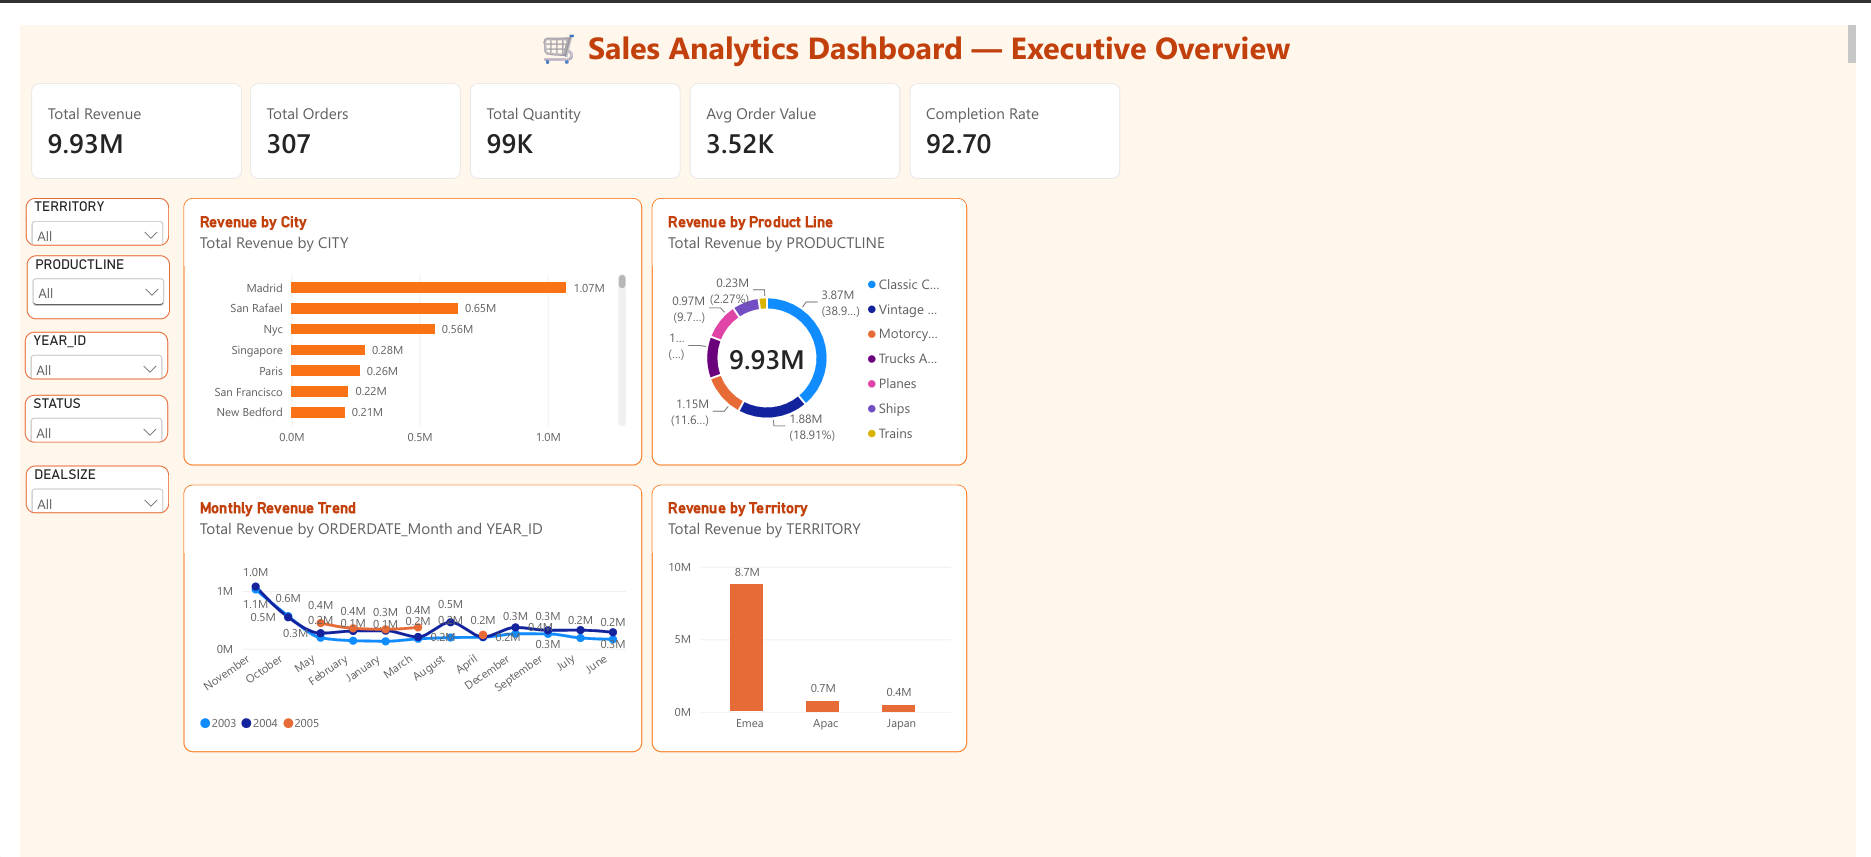

What the dashboard file says about the page in this screenshot:
{"tool":"powerbi","page":{"name":"Executive Overview","canvas":[1920,1080],"ordinal":0},"visuals":[{"type":"textbox","box":[10,0,280,280],"z":0},{"type":"textbox","box":[10.3,0,1910.1,49.4],"z":1},{"type":"cardVisual","fields":{"Data":["cleaned_data.Total Revenue"]},"box":[10.9,60,220,100],"z":2},{"type":"cardVisual","fields":{"Data":["cleaned_data.Total Orders"]},"box":[240,60,220,100],"z":3},{"type":"cardVisual","fields":{"Data":["cleaned_data.Total Quantity"]},"box":[470,60,220,100],"z":4},{"type":"cardVisual","fields":{"Data":["cleaned_data.Avg Order Value"]},"box":[700,60,220,100],"z":5},{"type":"cardVisual","fields":{"Data":["cleaned_data.Completion Rate"]},"box":[930,60,220,100],"z":6},{"type":"clusteredBarChart","title":"Revenue by City","fields":{"Category":["cleaned_data.CITY"],"Y":["cleaned_data.Total Revenue"]},"box":[170,180,480,280],"z":7},{"type":"donutChart","title":"Revenue by Product Line","fields":{"Category":["cleaned_data.PRODUCTLINE"],"Y":["cleaned_data.Total Revenue"]},"box":[660,180,330,280],"z":8},{"type":"lineChart","title":"Monthly Revenue Trend","fields":{"Category":["cleaned_data.ORDERDATE_Month"],"Series":["cleaned_data.YEAR_ID"],"Y":["cleaned_data.Total Revenue"]},"box":[170,480,480,280],"z":9},{"type":"clusteredColumnChart","title":"Revenue by Territory","fields":{"Category":["cleaned_data.TERRITORY"],"Y":["cleaned_data.Total Revenue"]},"box":[660,480,330,280],"z":10},{"type":"slicer","fields":{"Values":["cleaned_data.TERRITORY"]},"box":[5,180,150,50],"z":11},{"type":"slicer","fields":{"Values":["cleaned_data.PRODUCTLINE"]},"box":[5.7,240,150,67.1],"z":12},{"type":"slicer","fields":{"Values":["cleaned_data.YEAR_ID"]},"box":[4.3,320,150,50],"z":13},{"type":"slicer","fields":{"Values":["cleaned_data.STATUS"]},"box":[4.3,385.7,150,50],"z":14},{"type":"slicer","fields":{"Values":["cleaned_data.DEALSIZE"]},"box":[5,460,150,50],"z":15}]}

Visuals, with their boxes on the page's 1920x1080 design canvas (x1, y1, x2, y2). These are canvas units, not pixel positions in the 1871x857 screenshot, which may show the page scaled, cropped or inside an application window:
textbox: [10, 0, 290, 280]
textbox: [10, 0, 1920, 49]
cardVisual - cleaned_data.Total Revenue: [11, 60, 231, 160]
cardVisual - cleaned_data.Total Orders: [240, 60, 460, 160]
cardVisual - cleaned_data.Total Quantity: [470, 60, 690, 160]
cardVisual - cleaned_data.Avg Order Value: [700, 60, 920, 160]
cardVisual - cleaned_data.Completion Rate: [930, 60, 1150, 160]
"Revenue by City" clusteredBarChart: [170, 180, 650, 460]
"Revenue by Product Line" donutChart: [660, 180, 990, 460]
"Monthly Revenue Trend" lineChart: [170, 480, 650, 760]
"Revenue by Territory" clusteredColumnChart: [660, 480, 990, 760]
slicer - cleaned_data.TERRITORY: [5, 180, 155, 230]
slicer - cleaned_data.PRODUCTLINE: [6, 240, 156, 307]
slicer - cleaned_data.YEAR_ID: [4, 320, 154, 370]
slicer - cleaned_data.STATUS: [4, 386, 154, 436]
slicer - cleaned_data.DEALSIZE: [5, 460, 155, 510]
